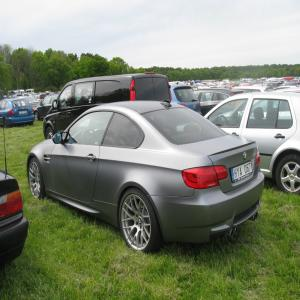Vehicle-registration-plate: (232, 162, 255, 185), (20, 112, 28, 115), (32, 105, 38, 108)
